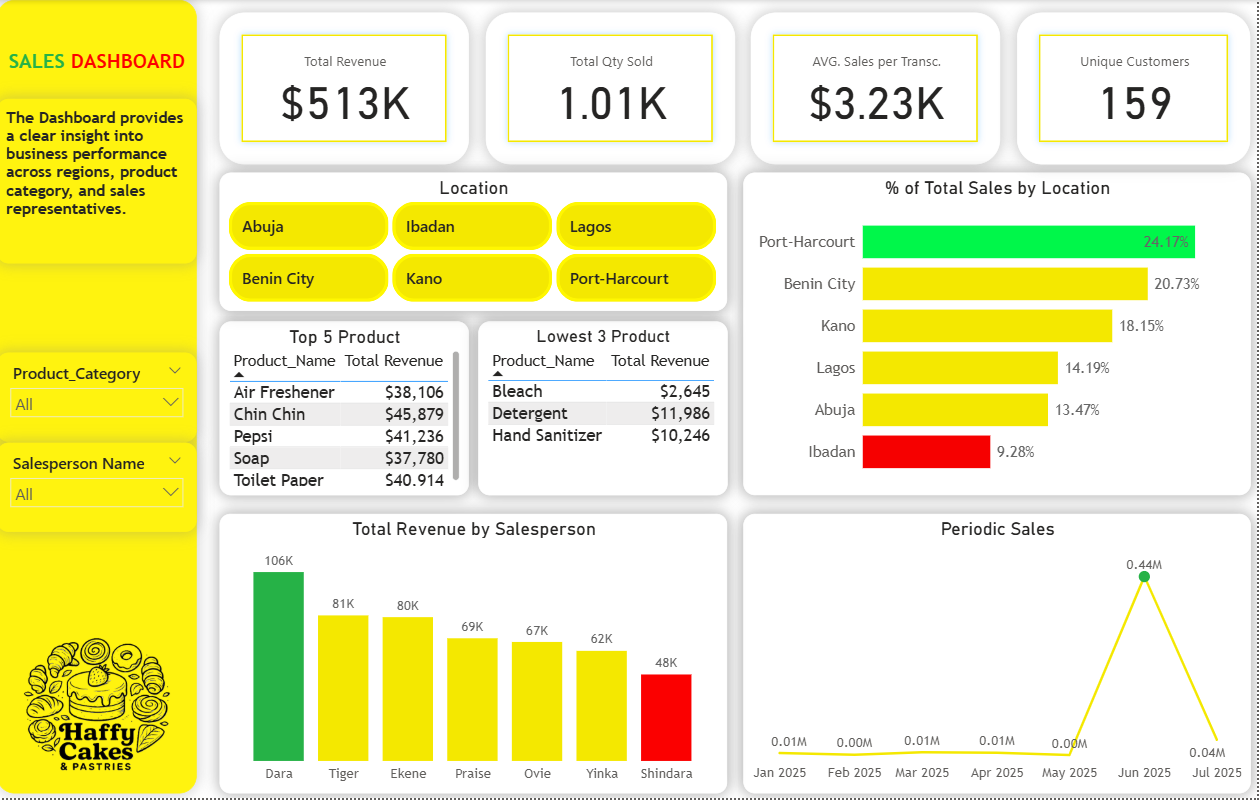

What the dashboard file says about the page in this screenshot:
{"tool":"powerbi","page":{"name":"Page 1","canvas":[1500,950],"ordinal":0},"visuals":[{"type":"shape","box":[0,0,237.5,944.3],"z":0},{"type":"cardVisual","fields":{"Data":["Sales Table.Total Revenue"]},"box":[264.1,15.2,296.4,180.5],"z":1000},{"type":"cardVisual","fields":{"Data":["Sales Table.Total Qty Sold"]},"box":[580.8,15.2,296.4,180.5],"z":2000},{"type":"cardVisual","fields":{"Data":["Sales Table.AVG. Sales per Transc."]},"box":[897.4,15.2,296.4,180.5],"z":3000},{"type":"clusteredBarChart","title":"% of Total Sales by Location","fields":{"Category":["Sales Table.Location"],"Y":["Sales Table.Total_Amount"]},"box":[887.3,216.6,604.2,372.4],"z":4000},{"type":"tableEx","title":"Top 5 Product ","fields":{"Values":["Sales Table.Product_Name","Sales Table.Total Revenue"]},"box":[264.1,381.9,297,207.1],"z":5000},{"type":"tableEx","title":"Lowest 3 Product ","fields":{"Values":["Sales Table.Product_Name","Sales Table.Total Revenue"]},"box":[571.9,381.9,296.4,207.1],"z":6000},{"type":"lineChart","title":"Periodic Sales","fields":{"Category":["Sales Table.Date.Variation.Date Hierarchy.Year","Sales Table.Date.Variation.Date Hierarchy.Month"],"Y":["Sales Table.Total_Amount"]},"box":[887.3,611.8,604.2,332.5],"z":7000},{"type":"clusteredColumnChart","title":"Total Revenue by Salesperson","fields":{"Category":["Salespersons_Table.Salesperson Name"],"Y":["Sales Table.Total_Amount"]},"box":[264.1,611.8,604.2,332.5],"z":8000},{"type":"cardVisual","fields":{"Data":["Sales Table.Unique Customers"]},"box":[1214.1,15.2,277.4,180.5],"z":9000},{"type":"slicer","fields":{"Values":["Sales Table.Product_Category"]},"box":[0,419.9,237.5,106.4],"z":10000},{"type":"advancedSlicerVisual","fields":{"Values":["Sales Table.Location"]},"box":[264.7,215.6,603.8,151.7],"z":11000},{"type":"slicer","fields":{"Values":["Salespersons_Table.Salesperson Name"]},"box":[0,526.3,237.5,106.4],"z":12000},{"type":"textbox","box":[0,53.2,237.5,106.4],"z":13000},{"type":"image","box":[0,741,237.5,209],"z":14000},{"type":"textbox","box":[0,117.8,237.5,195.7],"z":15000}]}

Visuals, with their boxes in screenshot pixels (x1, y1, x2, y2), scaled from the page's 1500x950 canvas onto the 1260x800 screenshot:
shape: detection(0, 0, 200, 795)
cardVisual - Sales Table.Total Revenue: detection(222, 13, 471, 165)
cardVisual - Sales Table.Total Qty Sold: detection(488, 13, 737, 165)
cardVisual - Sales Table.AVG. Sales per Transc.: detection(754, 13, 1003, 165)
"% of Total Sales by Location" clusteredBarChart: detection(745, 182, 1253, 496)
"Top 5 Product " tableEx: detection(222, 322, 471, 496)
"Lowest 3 Product " tableEx: detection(480, 322, 729, 496)
"Periodic Sales" lineChart: detection(745, 515, 1253, 795)
"Total Revenue by Salesperson" clusteredColumnChart: detection(222, 515, 729, 795)
cardVisual - Sales Table.Unique Customers: detection(1020, 13, 1253, 165)
slicer - Sales Table.Product_Category: detection(0, 354, 200, 443)
advancedSlicerVisual - Sales Table.Location: detection(222, 182, 730, 309)
slicer - Salespersons_Table.Salesperson Name: detection(0, 443, 200, 533)
textbox: detection(0, 45, 200, 134)
image: detection(0, 624, 200, 799)
textbox: detection(0, 99, 200, 264)
